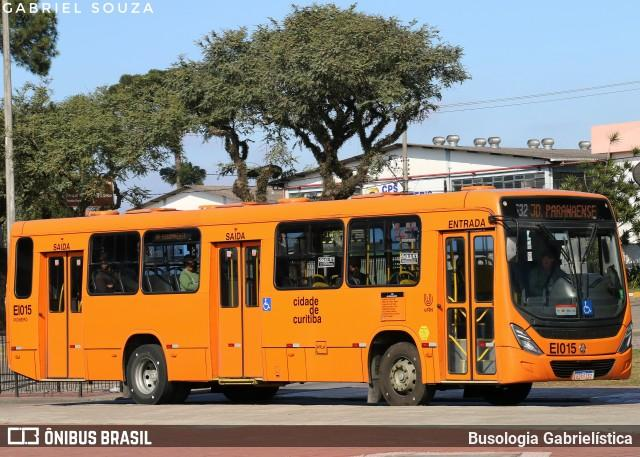JD PARANAENSE: (528, 201, 601, 221)
